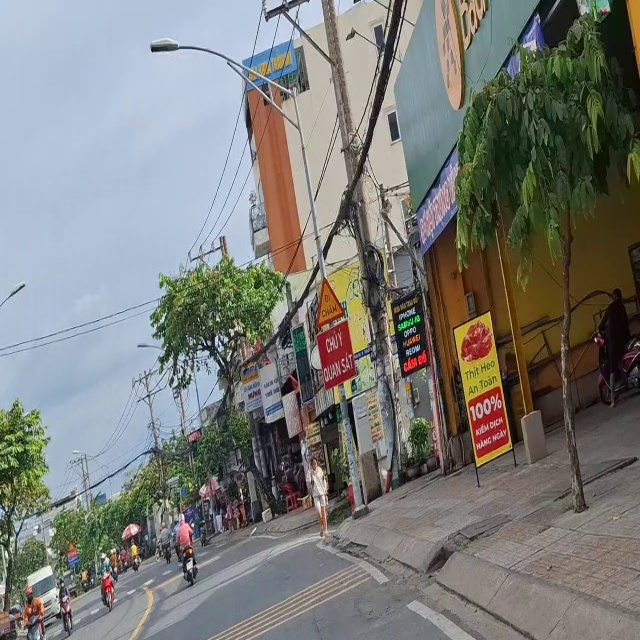di cham: (303, 270, 352, 325)
